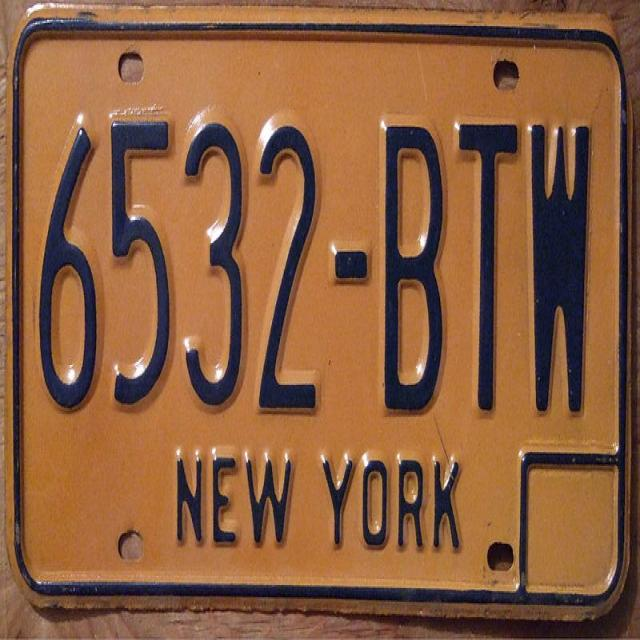placa: (17, 84, 614, 436)
